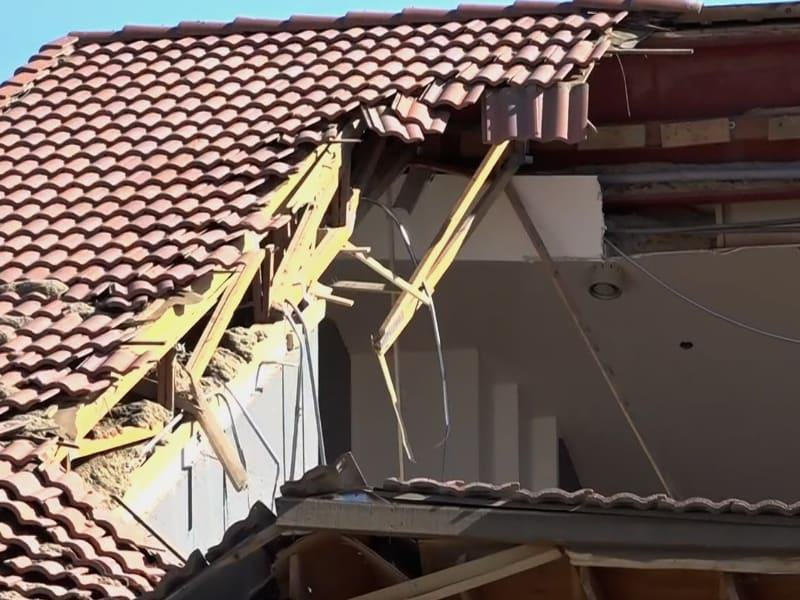sagging_roof: (73, 12, 800, 600)
